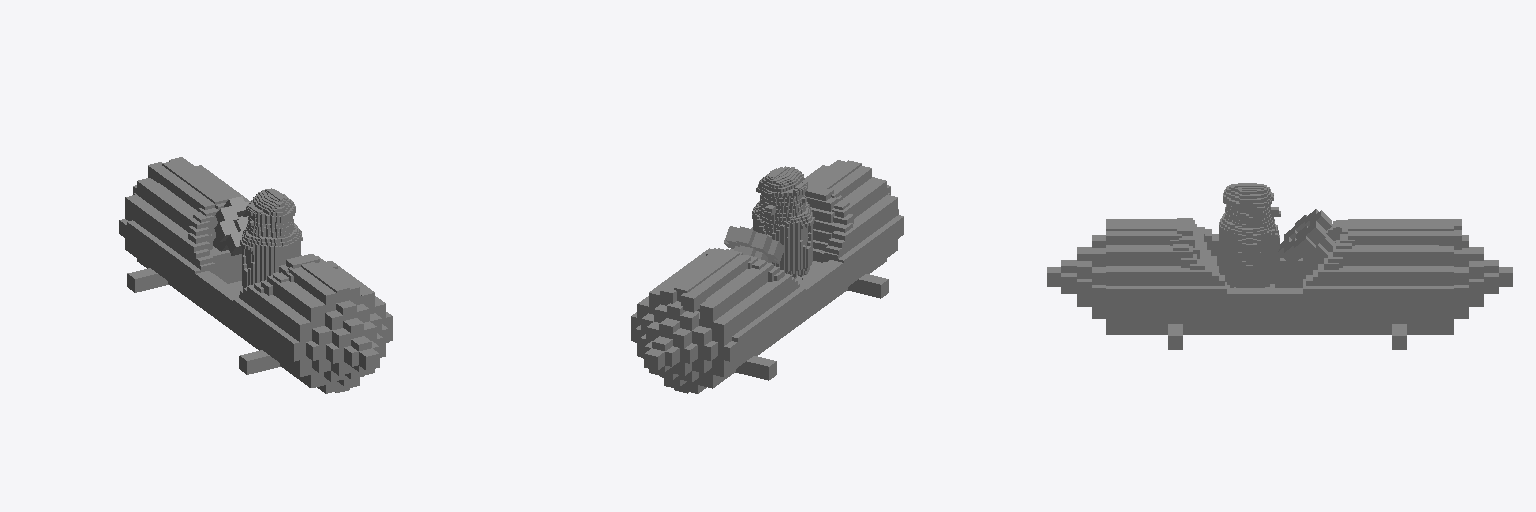
File: carritoConConductor.obj
The picture shows the model from 3 angles: view 1: azimuth 30°, elevation 25°; view 2: azimuth 150°, elevation 25°; view 3: azimuth 270°, elevation 25°; orthographic projection.
Parts seen in each view (by area): view 1: Box1512; view 2: Box1512; view 3: Box1512.
Part boxes in pixels (x1,y1,x2,y2): Box1512: (119,157,392,393); Box1512: (631,160,903,393); Box1512: (1047,183,1512,349).
Bounding box in the file's own units: 3.84 × 4.08 × 11.96.